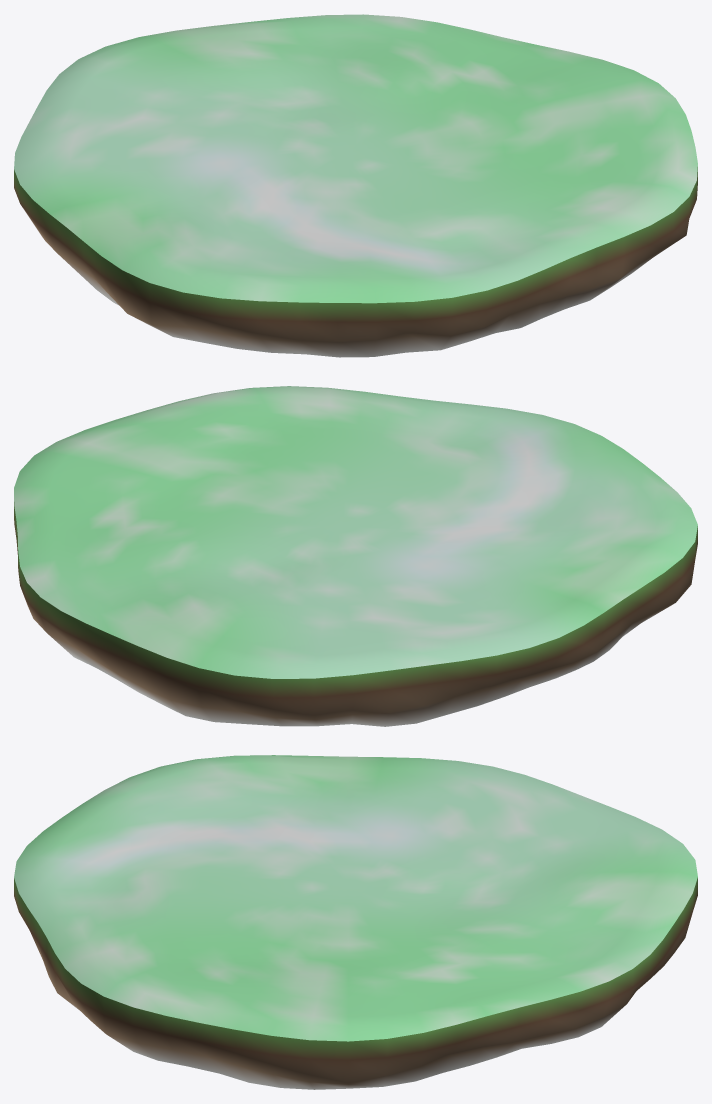
The model's file is island.glb.
The picture shows the model from 3 angles, top to bottom: view 1: azimuth 30°, elevation 25°; view 2: azimuth 150°, elevation 25°; view 3: azimuth 270°, elevation 25°; orthographic projection.
Visible parts, largest first — view 1: ground, cliff; view 2: ground, cliff; view 3: ground, cliff.
Boxes of the visible parts, x1,y1,x2,y2 form: ground: [14, 14, 697, 303]; cliff: [14, 167, 697, 357]; ground: [14, 386, 697, 678]; cliff: [14, 502, 697, 726]; ground: [14, 755, 697, 1041]; cliff: [14, 877, 697, 1089].
Bounding box in the file's own units: 12.47 × 3.56 × 12.58.
